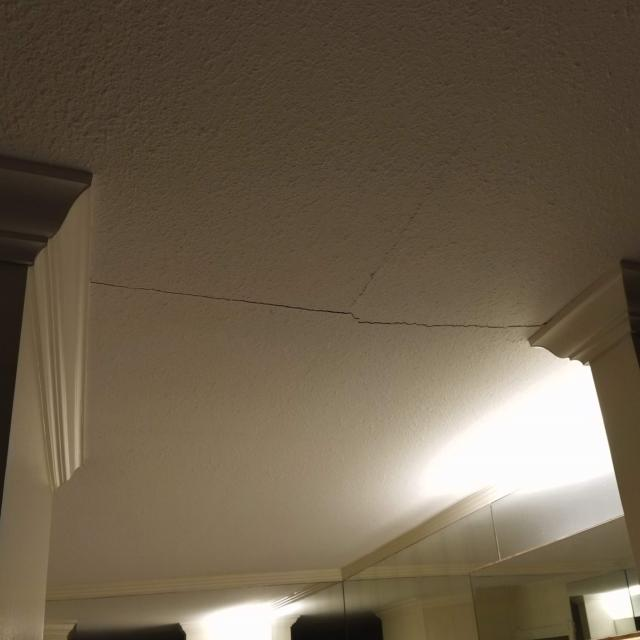leak: (90, 276, 546, 333), (349, 123, 442, 314)
